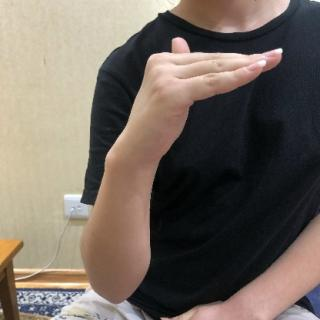KHAA: (111, 32, 295, 164)
